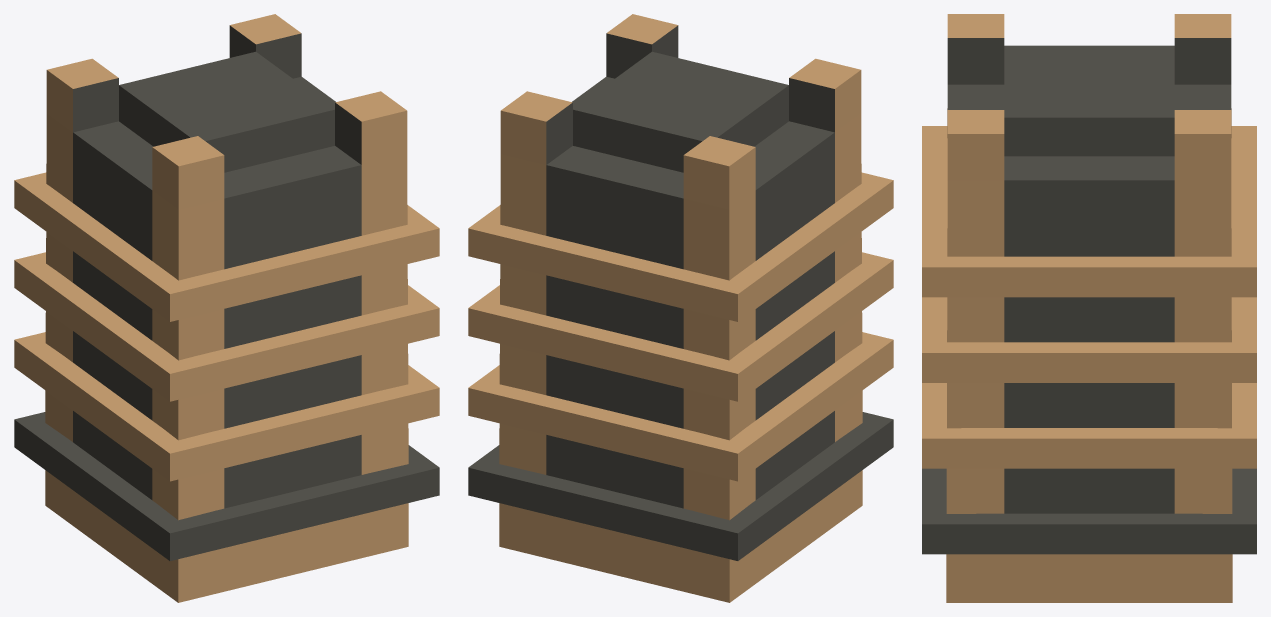
Rendered from building2.fbx.
3 views of the same model, side by side, from view 1: azimuth 30°, elevation 25°; view 2: azimuth 150°, elevation 25°; view 3: azimuth 270°, elevation 25° (orthographic). The views are drawn at different scales.
Visible parts, largest first — view 1: building2; view 2: building2; view 3: building2.
Boxes of the visible parts, x1,y1,x2,y2 form: building2: [14, 14, 439, 602]; building2: [468, 14, 893, 602]; building2: [922, 14, 1256, 602].
Bounding box in the file's own units: 3541 × 5468 × 3541.
